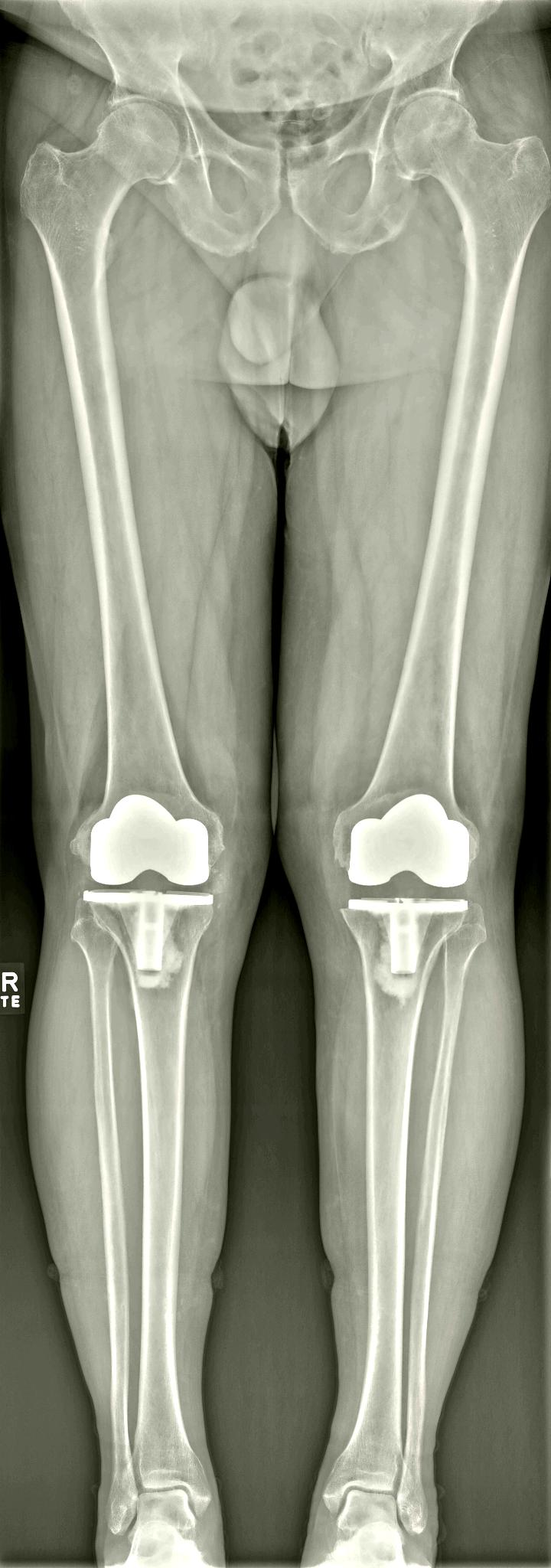Leg Fibula: (398, 905, 485, 1534), (72, 905, 137, 1534)
Leg Tibia: (324, 898, 468, 1514), (84, 890, 212, 1528)
femur: (334, 90, 551, 889), (21, 99, 223, 883)
